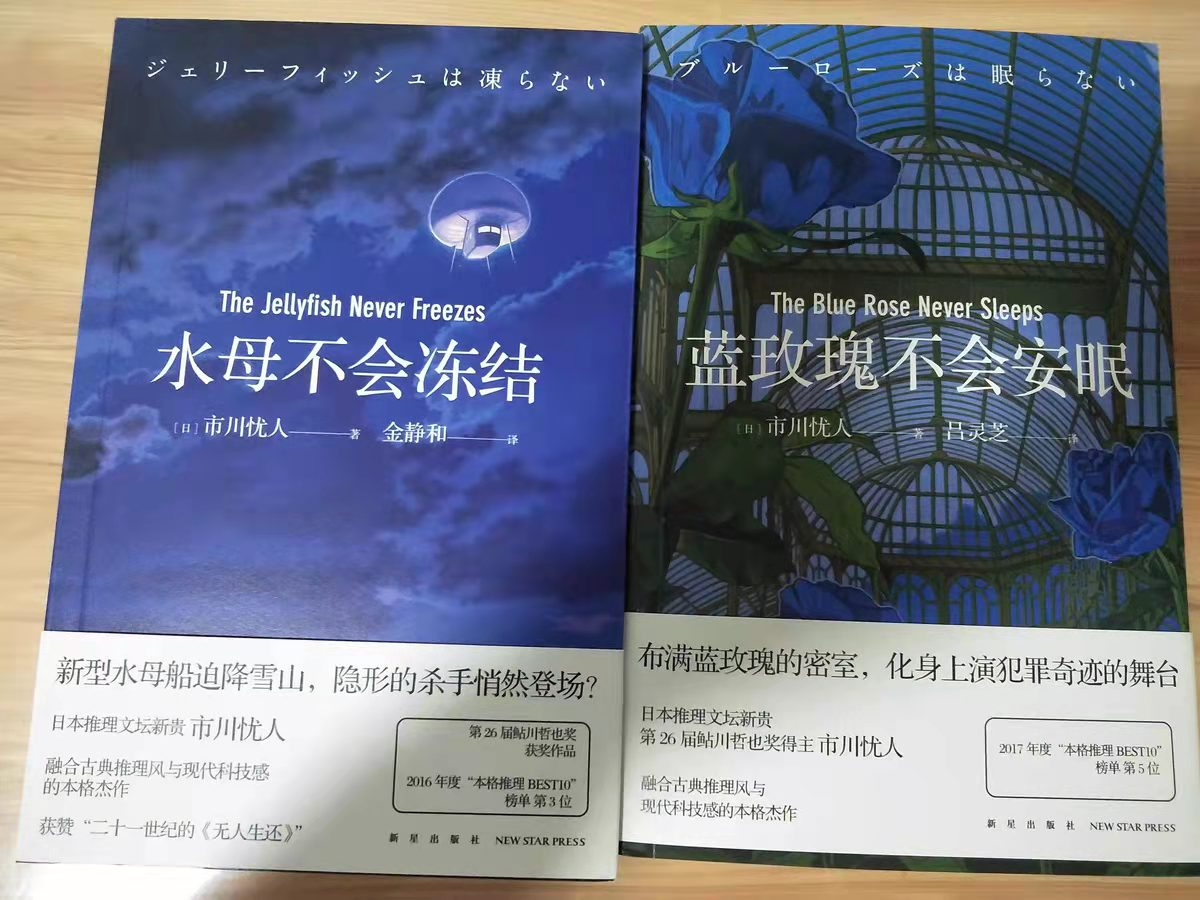book: (22, 10, 645, 886), (620, 24, 1200, 874)
